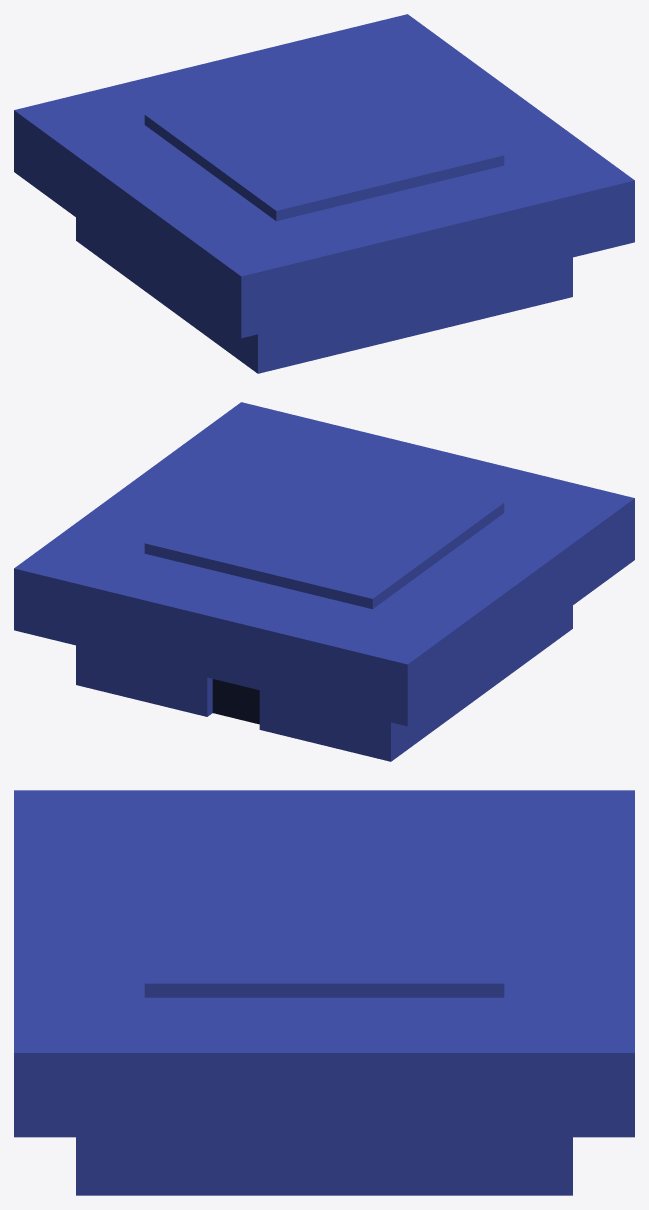
3 views of the same model, one above another, from view 1: azimuth 30°, elevation 25°; view 2: azimuth 150°, elevation 25°; view 3: azimuth 270°, elevation 25° (orthographic). The views are drawn at different scales.
Visible parts, largest first — view 1: base; view 2: base; view 3: base.
Boxes of the visible parts, x1=… form: base: x1=14, y1=14, x2=634, y2=373; base: x1=14, y1=402, x2=634, y2=761; base: x1=14, y1=790, x2=634, y2=1195.
Bounding box in the file's own units: 200 × 65 × 200.
Materials: 1 (1 with a texture image).
